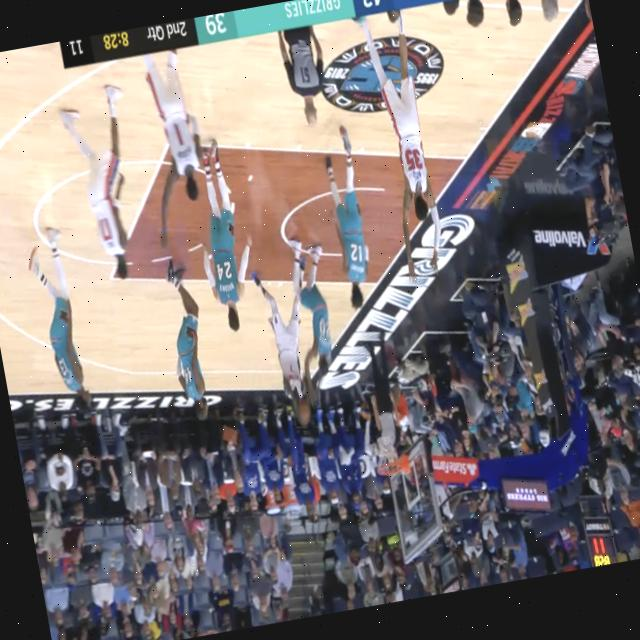no foul: (234, 208, 350, 438)
